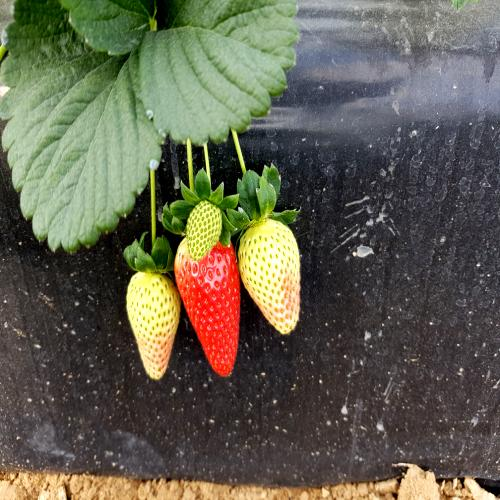ripe: (167, 238, 244, 378)
